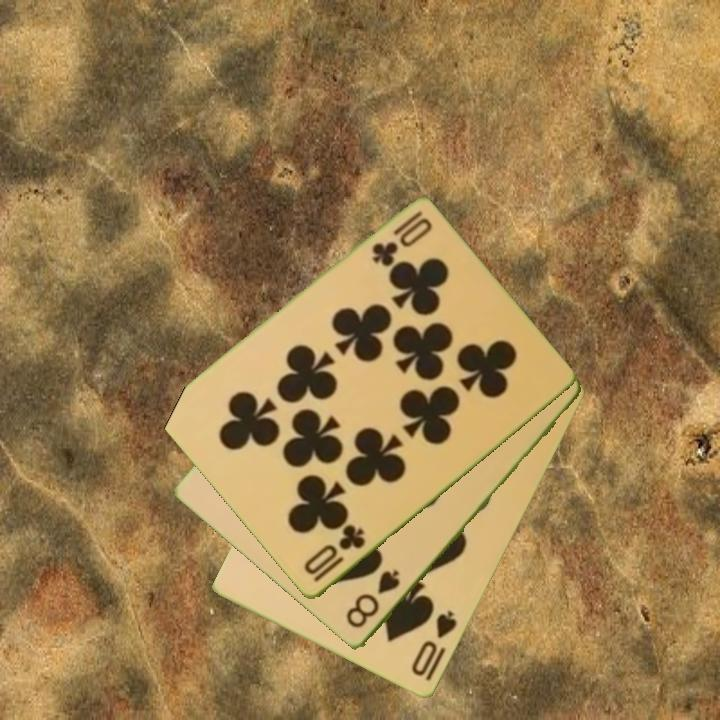10c: (300, 521, 369, 586), (368, 207, 426, 269)
10s: (408, 607, 460, 680)
8s: (342, 566, 404, 632)
